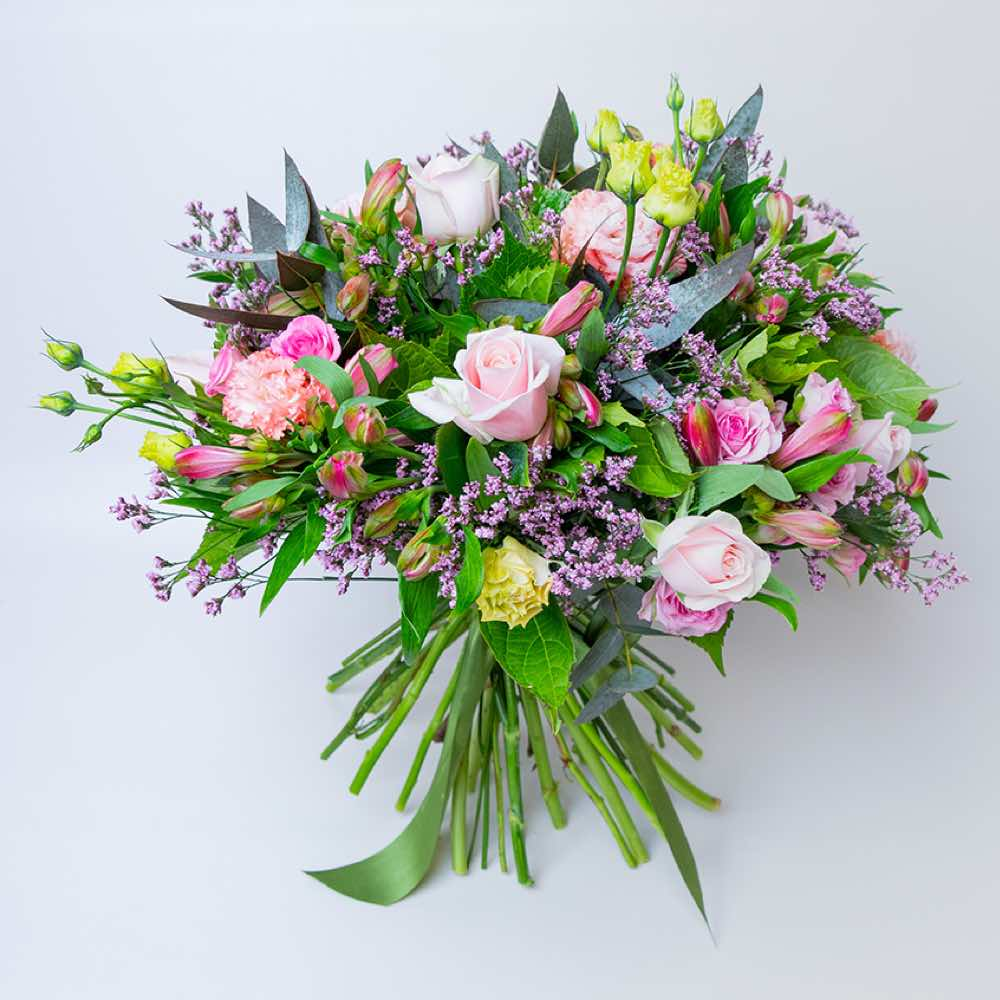Pink: (451, 335, 556, 435), (663, 515, 770, 605), (574, 191, 656, 269), (708, 404, 774, 457), (786, 414, 852, 457), (277, 319, 337, 359), (175, 444, 246, 475), (209, 346, 227, 393)
White: (415, 162, 503, 237)
Yellow: (476, 545, 553, 623), (605, 144, 653, 190), (691, 104, 721, 144), (142, 433, 178, 466), (592, 110, 617, 148)
